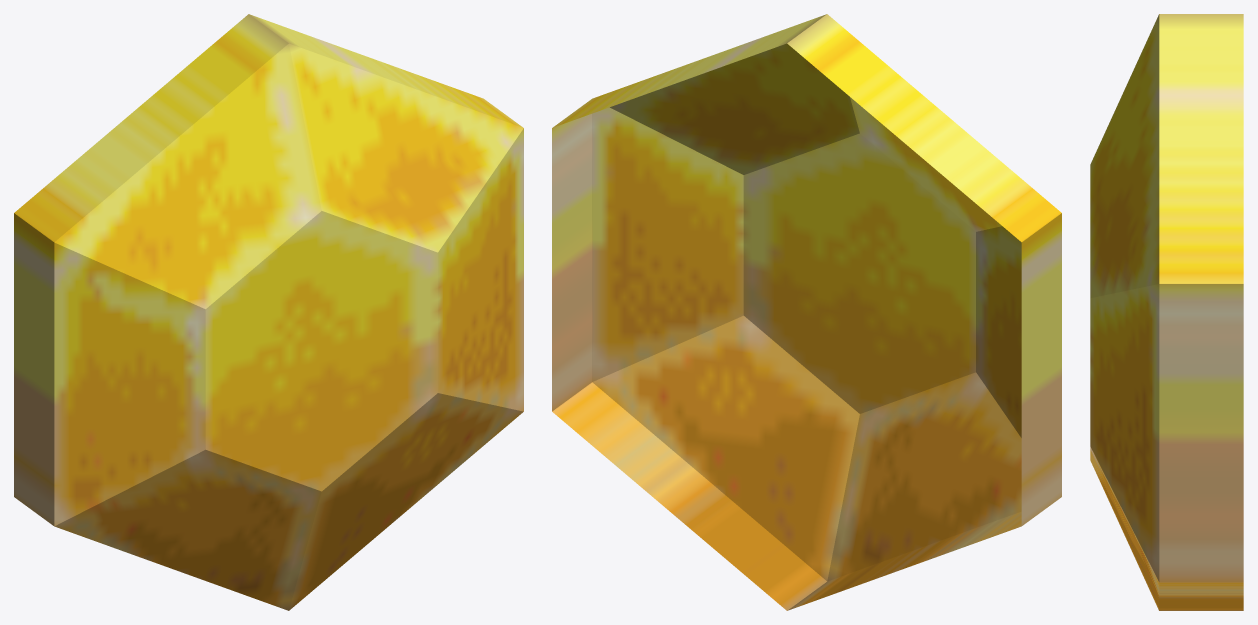
3 renders of one model, left to right at view 1: azimuth 30°, elevation 25°; view 2: azimuth 150°, elevation 25°; view 3: azimuth 270°, elevation 25°, orthographic. The views are drawn at different scales.
Visible parts, largest first — view 1: SMDImport; view 2: SMDImport; view 3: SMDImport.
Boxes of the visible parts, box(x1,y1,x2,y2) form: SMDImport: box(14, 14, 523, 610); SMDImport: box(552, 14, 1061, 610); SMDImport: box(1090, 14, 1243, 610).
Bounding box in the file's own units: 51.13 × 59.03 × 13.76.
